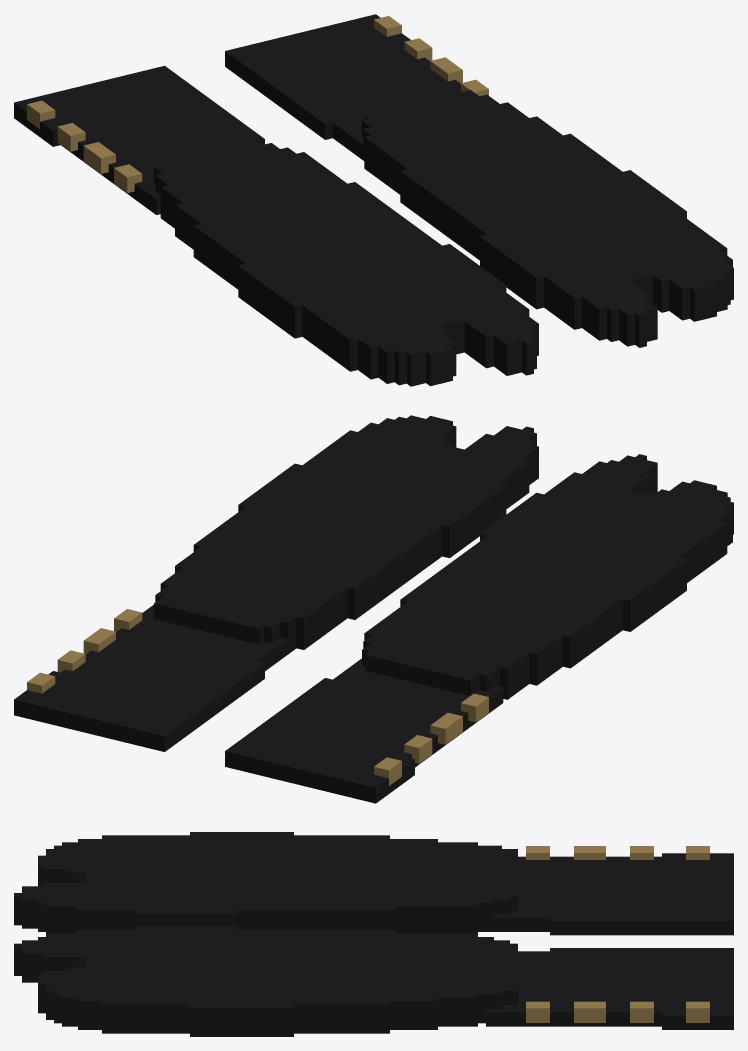
File: tabi.glb
3 views of the same model, one above another, from view 1: azimuth 30°, elevation 25°; view 2: azimuth 150°, elevation 25°; view 3: azimuth 270°, elevation 25° (orthographic). The views are drawn at different scales.
Parts seen in each view (by area): view 1: tabi:compound; view 2: tabi:compound; view 3: tabi:compound.
Part boxes in pixels (<box>): tabi:compound: <box>14,14,733,386</box>; tabi:compound: <box>14,415,733,803</box>; tabi:compound: <box>14,832,733,1036</box>.
Bounding box in the file's own units: 0.208 × 0.016 × 0.36.
